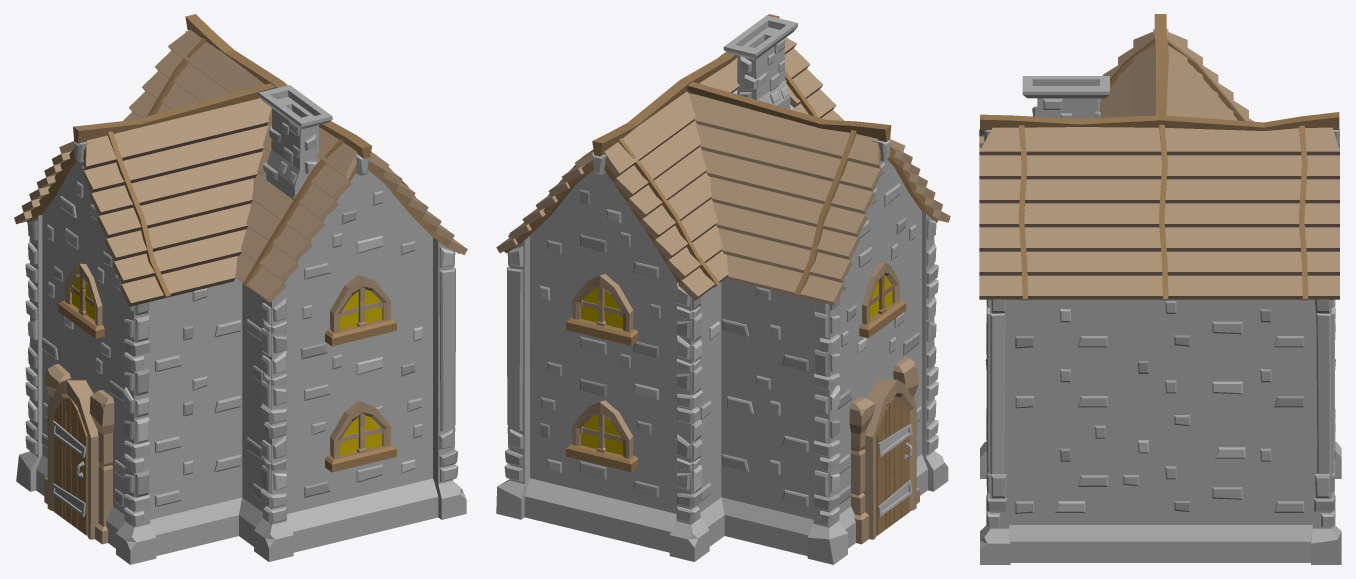
Rendered from villa.fbx.
The picture shows the model from 3 angles, left to right: view 1: azimuth 30°, elevation 25°; view 2: azimuth 150°, elevation 25°; view 3: azimuth 270°, elevation 25°; orthographic projection.
Parts seen in each view (by area): view 1: Villa; view 2: Villa; view 3: Villa.
Boxes of the visible parts, left/top/right/bottom form: Villa: left=14, top=14, right=467, bottom=564; Villa: left=496, top=14, right=950, bottom=564; Villa: left=979, top=14, right=1341, bottom=564.
Bounding box in the file's own units: 339 × 417 × 329.
